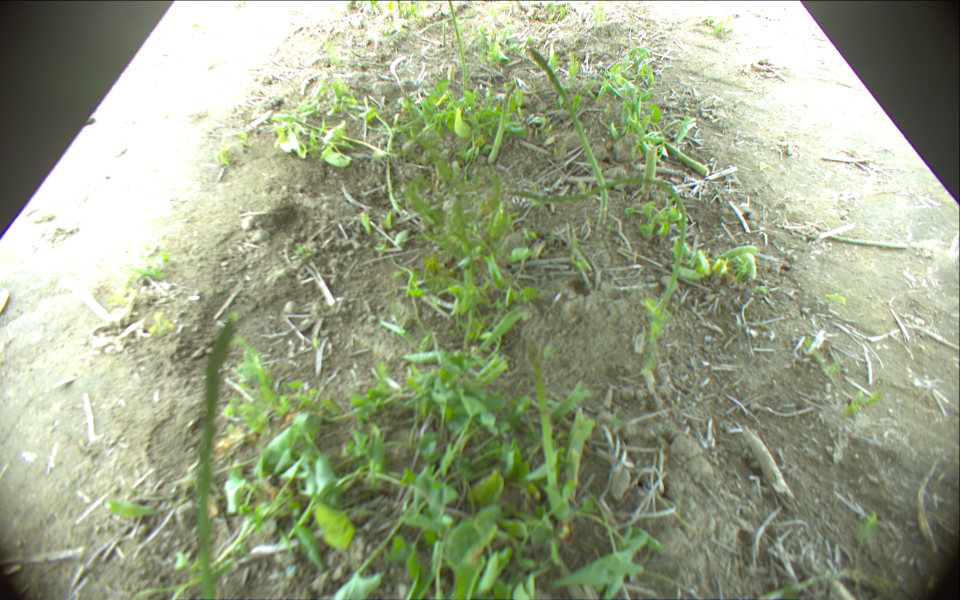aspa: (508, 177, 688, 319), (526, 44, 608, 223), (199, 319, 237, 600), (524, 343, 560, 518), (286, 113, 396, 155), (650, 129, 709, 179), (487, 81, 518, 165), (445, 1, 471, 100), (385, 113, 400, 212), (640, 146, 657, 195)
